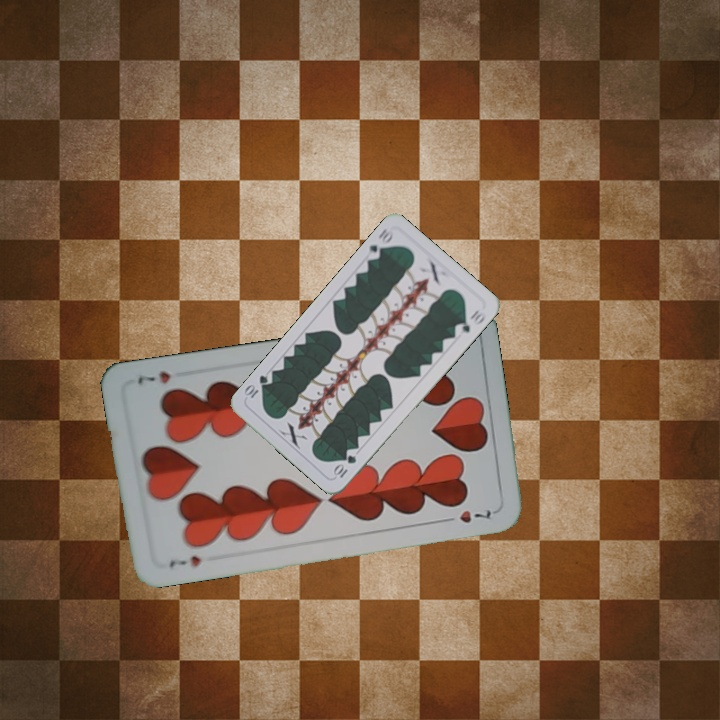G10: (364, 223, 396, 263), (330, 451, 359, 480)
H7: (165, 551, 203, 570)
